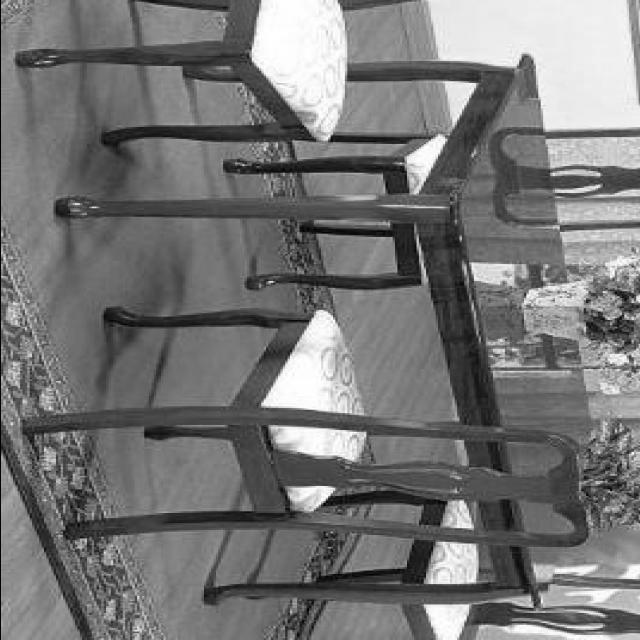chair: (23, 308, 588, 550), (227, 126, 639, 289), (271, 491, 639, 640)
table: (62, 52, 596, 605)
